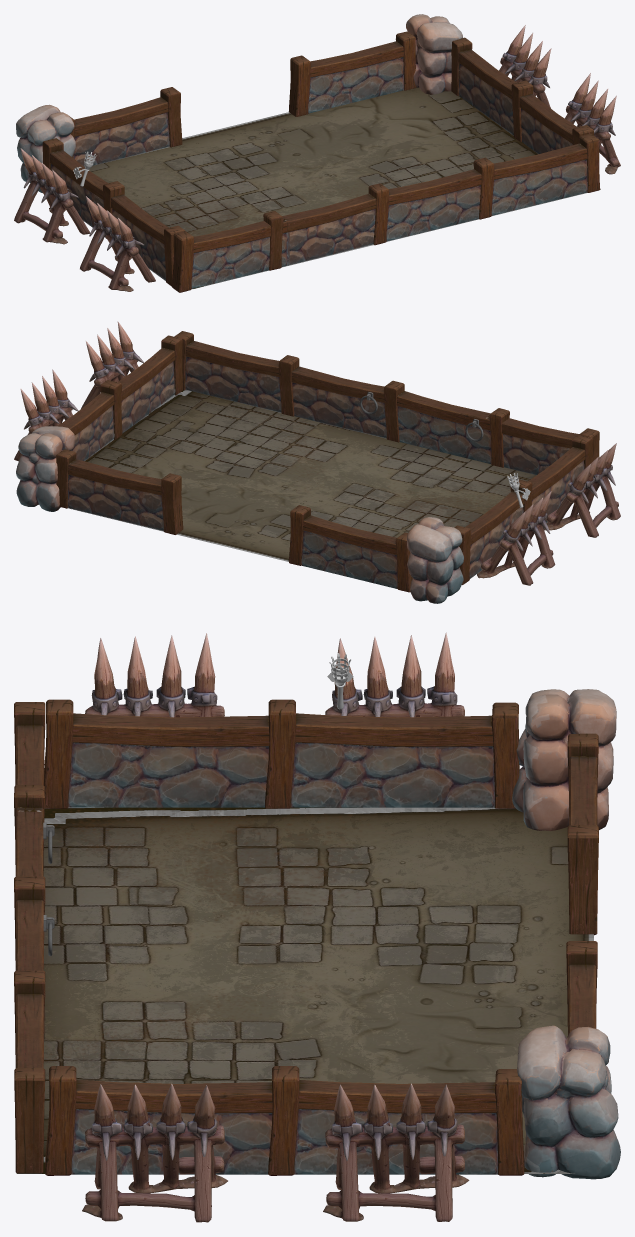
File: new_enviro.fbx
The picture shows the model from 3 angles, top to bottom: view 1: azimuth 30°, elevation 25°; view 2: azimuth 150°, elevation 25°; view 3: azimuth 270°, elevation 25°; orthographic projection. The views are drawn at different scales.
Visible parts, largest first — view 1: Box003, Floor, tripo_node_b0f5edb3, tripo_node_f5c82af9; view 2: Box003, Floor, tripo_node_b0f5edb3, tripo_node_f5c82af9; view 3: Floor, Box003, tripo_node_b0f5edb3, tripo_node_f5c82af9.
Part boxes in pixels (box(x1,y1,x2,y2)): Box003: box(42, 31, 600, 292); Floor: box(89, 87, 600, 289); tripo_node_b0f5edb3: box(14, 25, 620, 291); tripo_node_f5c82af9: box(16, 14, 462, 192); Box003: box(56, 331, 599, 592); Floor: box(68, 389, 535, 561); tripo_node_b0f5edb3: box(14, 321, 620, 585); tripo_node_f5c82af9: box(16, 426, 463, 603); Floor: box(16, 807, 593, 1173); Box003: box(14, 699, 598, 1175); tripo_node_b0f5edb3: box(82, 632, 469, 1222); tripo_node_f5c82af9: box(512, 689, 620, 1179).
Bounding box in the file's own units: 16.45 × 2.48 × 9.13.
